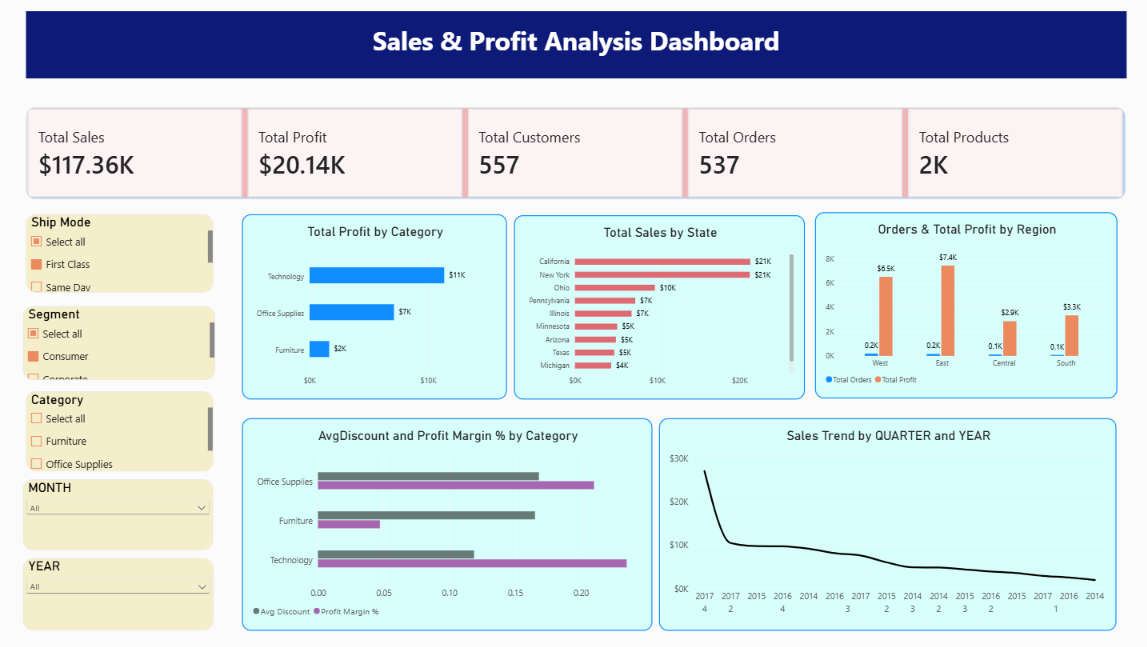

The dashboard page shown, as its layout file describes it:
{"tool":"powerbi","page":{"name":"Trends & Performance","canvas":[1920,1080],"ordinal":1},"visuals":[{"type":"textbox","box":[44,20,1834,112],"z":0},{"type":"cardVisual","fields":{"Data":["Fact Sales.Total Sales","Fact Sales.Total Profit","Fact Sales.Total Customers","Fact Sales.Total Orders","Fact Sales.Total Products"]},"box":[43.6,179.7,1833.1,153.5],"z":1000},{"type":"slicer","fields":{"Values":["Dim Calender.MONTH"]},"box":[38.3,800,316.7,118.3],"z":6000},{"type":"slicer","fields":{"Values":["Dim Calender.YEAR"]},"box":[38.4,931.4,317.4,120.3],"z":7000},{"type":"slicer","fields":{"Values":["Dim Product.Category"]},"box":[43.3,653.3,311.7,133.3],"z":8000},{"type":"slicer","fields":{"Values":["Dim Customer.Segment"]},"box":[38.3,511.7,320,123.3],"z":9000},{"type":"slicer","fields":{"Values":["Fact Sales.Ship Mode"]},"box":[43.3,358.3,311.7,130],"z":10000},{"type":"clusteredBarChart","fields":{"Category":["Dim Product.Category"],"Y":["Fact Sales.Total Profit"]},"box":[402.9,357.6,441.3,308.7],"z":11000},{"type":"lineChart","title":"Sales Trend by QUARTER and YEAR","fields":{"Y":["Fact Sales.Total Sales"],"Category":["Dim Calender.QUARTER","Dim Calender.YEAR"]},"box":[1098.8,697.7,762.2,354.1],"z":12000},{"type":"clusteredColumnChart","title":" Orders & Total Profit by Region","fields":{"Y":["Fact Sales.Total Orders","Fact Sales.Total Profit"],"Category":["Dim Customer.Region"]},"box":[1358.7,355.8,504.1,310.5],"z":13000},{"type":"clusteredBarChart","title":"AvgDiscount and Profit Margin % by Category","fields":{"Y":["Fact Sales.Avg Discount","Fact Sales.Profit Margin %"],"Category":["Dim Product.Category"]},"box":[402.9,697.7,683.7,354.1],"z":14000},{"type":"clusteredBarChart","fields":{"Category":["Dim Customer.State"],"Y":["Fact Sales.Total Sales"]},"box":[856.4,359.3,484.9,307],"z":15000}]}

Visuals, with their boxes in screenshot pixels (x1, y1, x2, y2), scaled from the page's 1920x1080 canvas onto the 1147x647 screenshot:
textbox: (x1=26, y1=12, x2=1122, y2=79)
cardVisual - Fact Sales.Total Sales x Fact Sales.Total Profit: (x1=26, y1=108, x2=1121, y2=200)
slicer - Dim Calender.MONTH: (x1=23, y1=479, x2=212, y2=550)
slicer - Dim Calender.YEAR: (x1=23, y1=558, x2=213, y2=630)
slicer - Dim Product.Category: (x1=26, y1=391, x2=212, y2=471)
slicer - Dim Customer.Segment: (x1=23, y1=307, x2=214, y2=380)
slicer - Fact Sales.Ship Mode: (x1=26, y1=215, x2=212, y2=293)
clusteredBarChart - Dim Product.Category x Fact Sales.Total Profit: (x1=241, y1=214, x2=504, y2=399)
"Sales Trend by QUARTER and YEAR" lineChart: (x1=656, y1=418, x2=1112, y2=630)
" Orders & Total Profit by Region" clusteredColumnChart: (x1=812, y1=213, x2=1113, y2=399)
"AvgDiscount and Profit Margin % by Category" clusteredBarChart: (x1=241, y1=418, x2=649, y2=630)
clusteredBarChart - Dim Customer.State x Fact Sales.Total Sales: (x1=512, y1=215, x2=801, y2=399)
